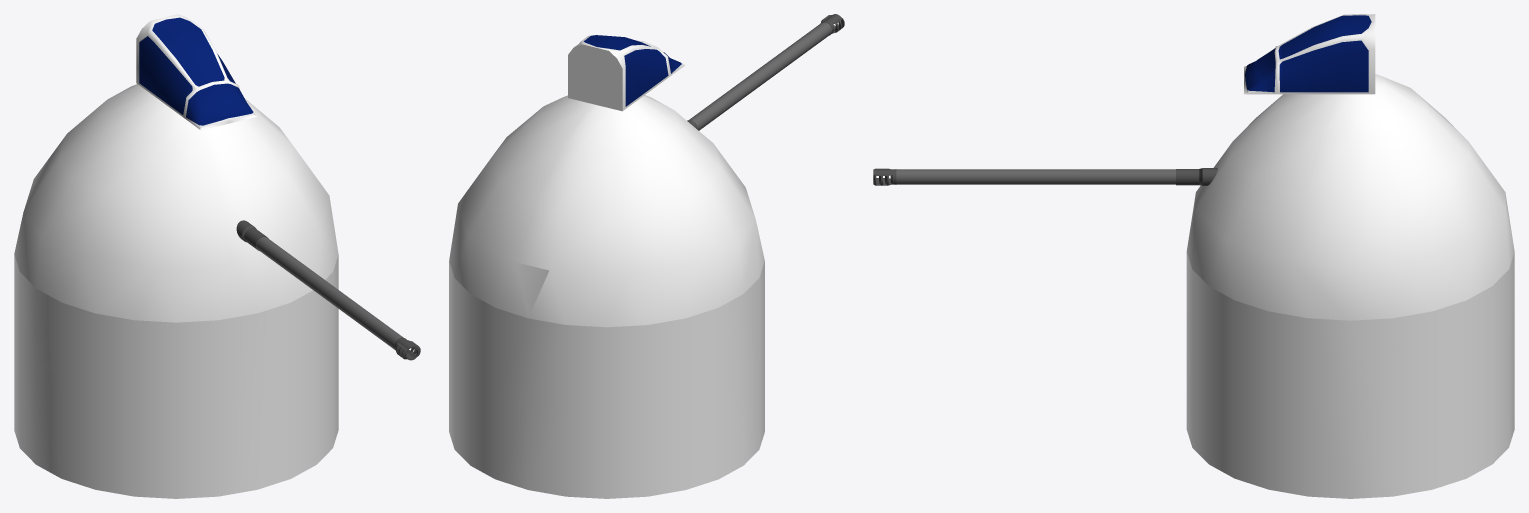
File: Bunker_export.obj
The picture shows the model from 3 angles, left to right: view 1: azimuth 30°, elevation 25°; view 2: azimuth 150°, elevation 25°; view 3: azimuth 270°, elevation 25°; orthographic projection. The views are drawn at different scales.
Visible parts, largest first — view 1: Mesh_1, Mesh_2, Mesh_0, Barrel_5; view 2: Mesh_2, Mesh_1, Mesh_0, Barrel_5; view 3: Mesh_2, Mesh_1, Mesh_0, Barrel_5.
Boxes of the visible parts, x1=… form: Mesh_1: x1=14, y1=254, x2=338, y2=498; Mesh_2: x1=14, y1=84, x2=338, y2=322; Mesh_0: x1=136, y1=14, x2=256, y2=130; Barrel_5: x1=256, y1=237, x2=403, y2=349; Mesh_2: x1=449, y1=95, x2=764, y2=327; Mesh_1: x1=449, y1=261, x2=764, y2=498; Mesh_0: x1=568, y1=35, x2=685, y2=111; Barrel_5: x1=689, y1=22, x2=831, y2=130; Mesh_2: x1=1186, y1=74, x2=1514, y2=320; Mesh_1: x1=1186, y1=252, x2=1514, y2=498; Mesh_0: x1=1244, y1=14, x2=1375, y2=94; Barrel_5: x1=896, y1=169, x2=1175, y2=184.
Bounding box in the file's own units: 2.5 × 3.44 × 4.89.
Materials: 1 (1 with a texture image).
